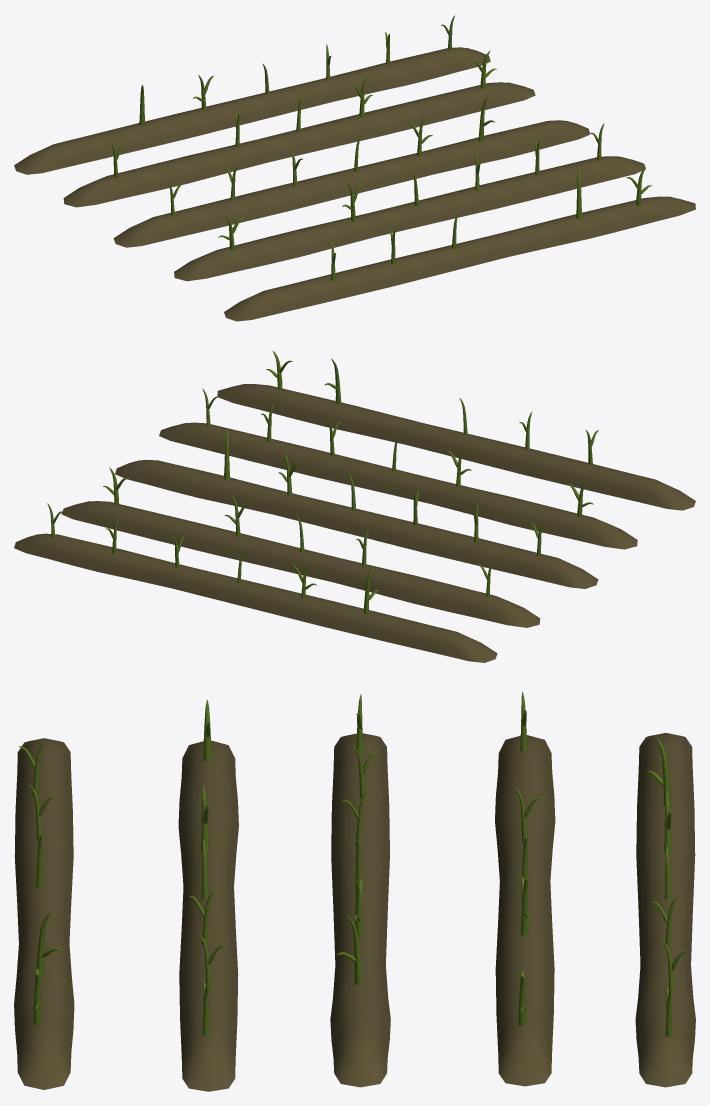
File: Farm-O4wpTLSfIn.glb
The picture shows the model from 3 angles, top to bottom: view 1: azimuth 30°, elevation 25°; view 2: azimuth 150°, elevation 25°; view 3: azimuth 270°, elevation 25°; orthographic projection. The views are drawn at different scales.
Visible parts, largest first — view 1: Farm_Dirt_Level2; view 2: Farm_Dirt_Level2; view 3: Farm_Dirt_Level2.
Boxes of the visible parts, x1,y1,x2,y2 form: Farm_Dirt_Level2: (14, 15, 695, 321); Farm_Dirt_Level2: (14, 350, 695, 662); Farm_Dirt_Level2: (14, 691, 695, 1091).
Bounding box in the file's own units: 1.79 × 0.2209 × 1.44.
